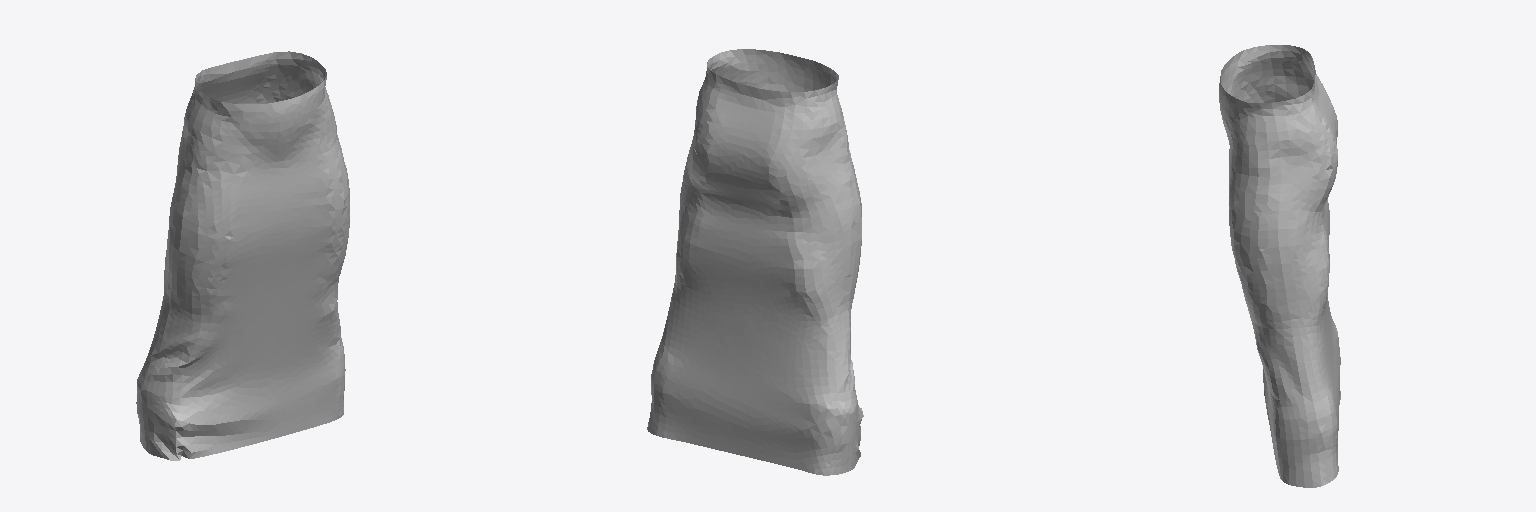
Rendered from bottom3.obj.
3 renders of one model, left to right at view 1: azimuth 30°, elevation 25°; view 2: azimuth 150°, elevation 25°; view 3: azimuth 270°, elevation 25°, orthographic.
Visible parts, largest first — view 1: bottom3; view 2: bottom3; view 3: bottom3.
Boxes of the visible parts, box(x1,y1,x2,y2) form: bottom3: box(136, 51, 349, 460); bottom3: box(647, 49, 863, 475); bottom3: box(1219, 45, 1340, 487).
Size of the model in its own units: 51.17 by 89.72 by 26.99.